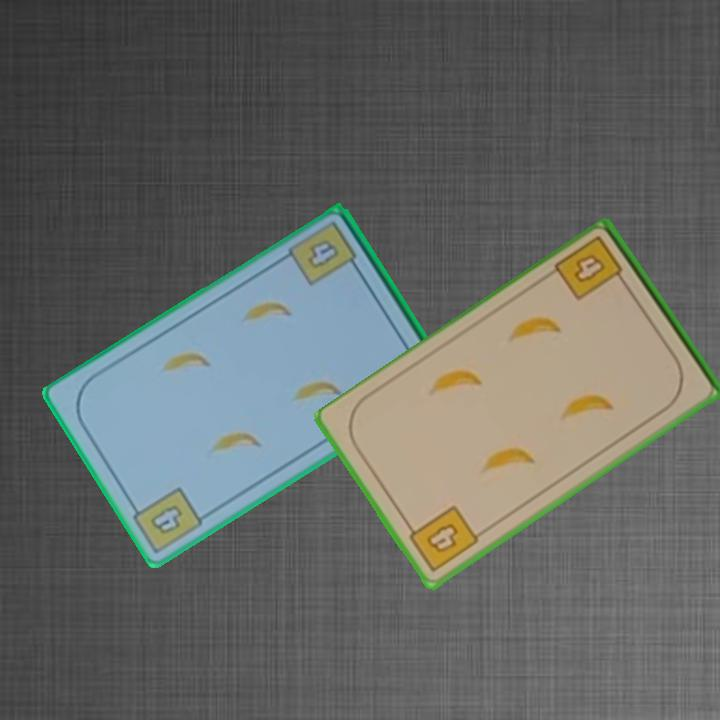4b: (126, 483, 206, 557), (402, 502, 482, 576), (551, 232, 631, 304), (303, 236, 343, 273)
